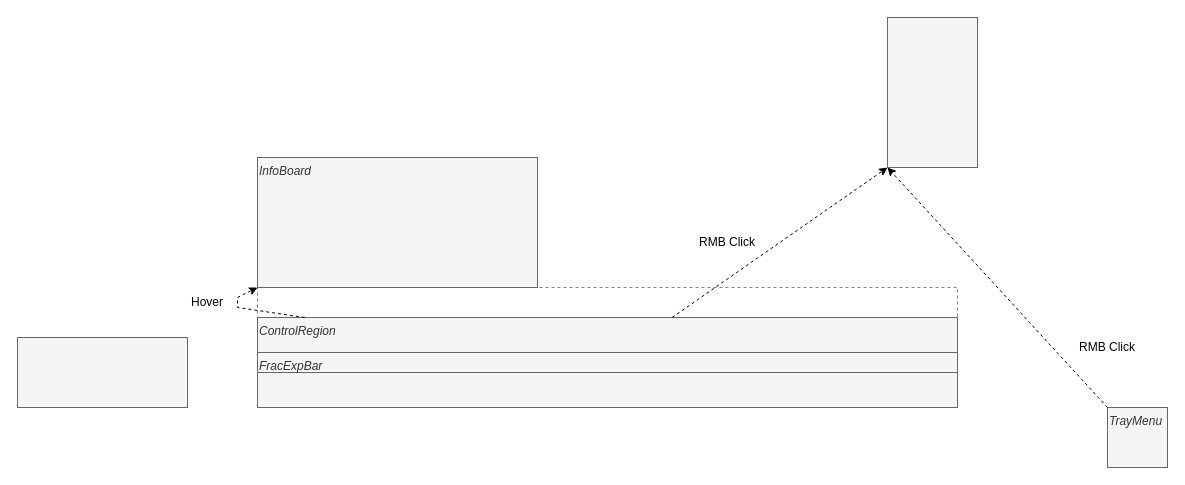
The diagram is 1185 pixels wide and 485 high, and some of its shapes have lost their labels. Each missing label, with the centre of its shape:
ErrorBoard: the point at 102,372
Menu: the point at 932,92
